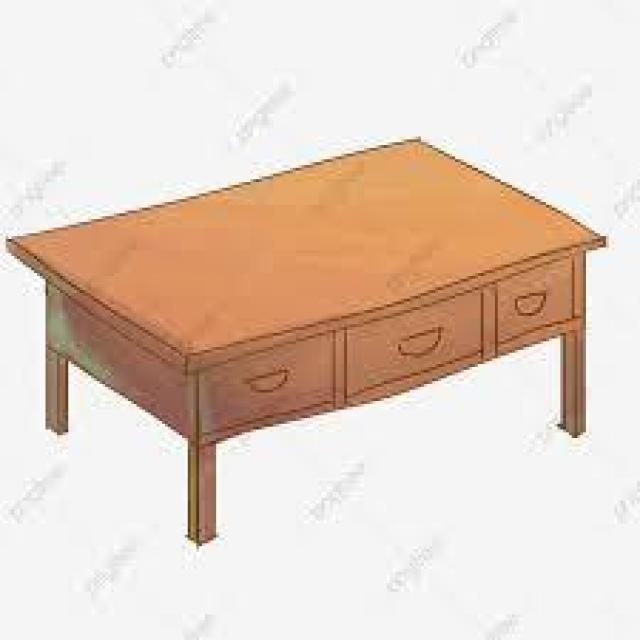desk: (10, 110, 616, 570)
